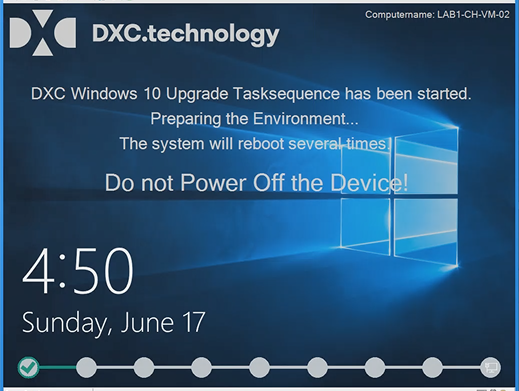DXC: (10, 10, 279, 55)
